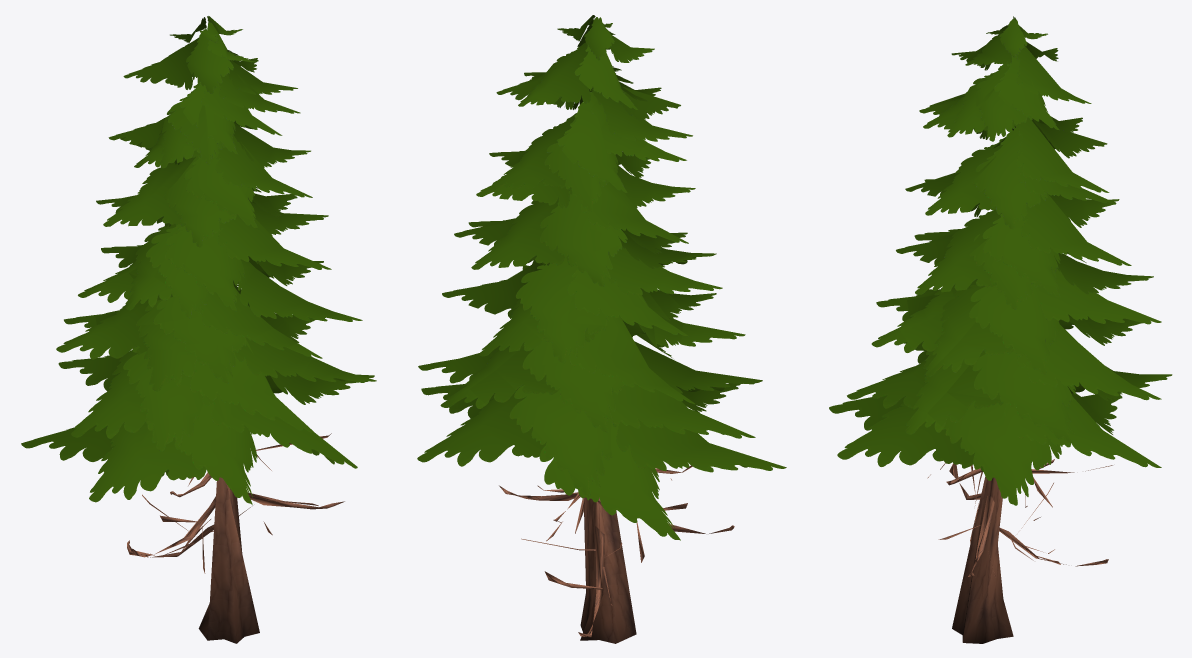
The model's file is Pine_4@lod.gltf.
3 views of the same model, side by side, from view 1: azimuth 30°, elevation 25°; view 2: azimuth 150°, elevation 25°; view 3: azimuth 270°, elevation 25° (orthographic). The views are drawn at different scales.
Parts seen in each view (by area): view 1: Pine_4; view 2: Pine_4; view 3: Pine_4.
Boxes of the visible parts, left/top/right/bottom form: Pine_4: left=21, top=16, right=376, bottom=643; Pine_4: left=417, top=15, right=786, bottom=643; Pine_4: left=829, top=16, right=1172, bottom=643.
Size of the model in its own units: 5.8 by 10.24 by 5.37.
2 materials, 2 textured.
